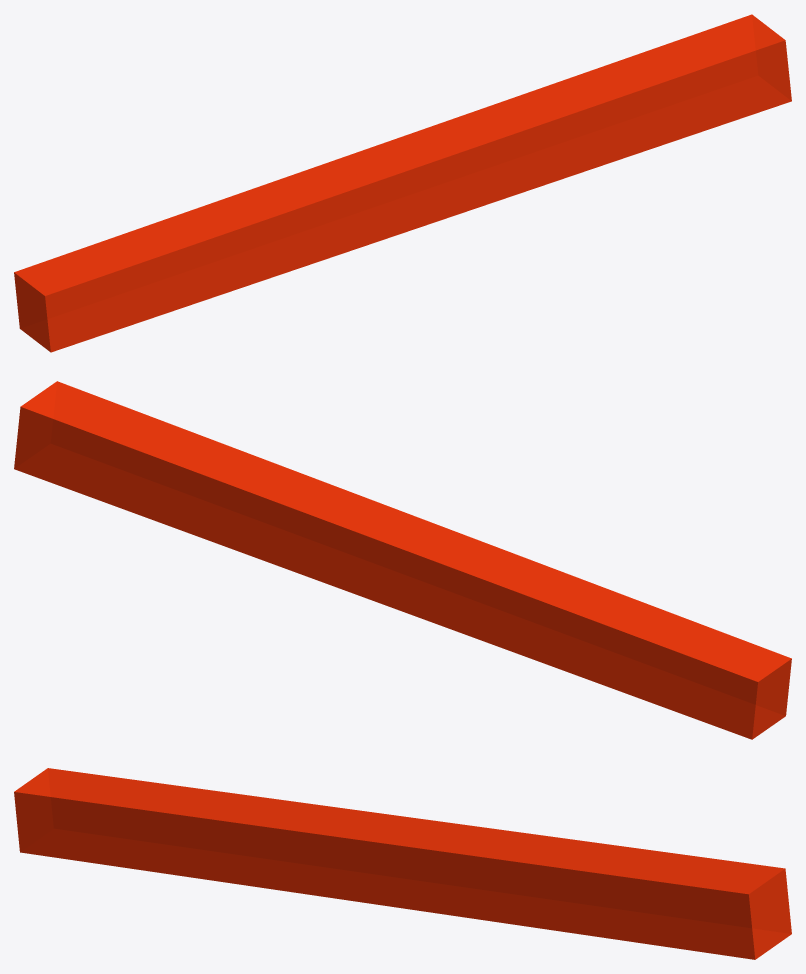
The model's file is Event_421278790_EErechit_35.fbx.
3 renders of one model, top to bottom at view 1: azimuth 30°, elevation 25°; view 2: azimuth 150°, elevation 25°; view 3: azimuth 330°, elevation 25°, orthographic. The views are drawn at different scales.
Visible parts, largest first — view 1: Model; view 2: Model; view 3: Model.
Part boxes in pixels (x1,y1,x2,y2): Model: [14, 14, 791, 352]; Model: [14, 381, 791, 739]; Model: [14, 768, 791, 959].
Bounding box in the file's own units: 0.9622 × 0.1791 × 0.0966.
